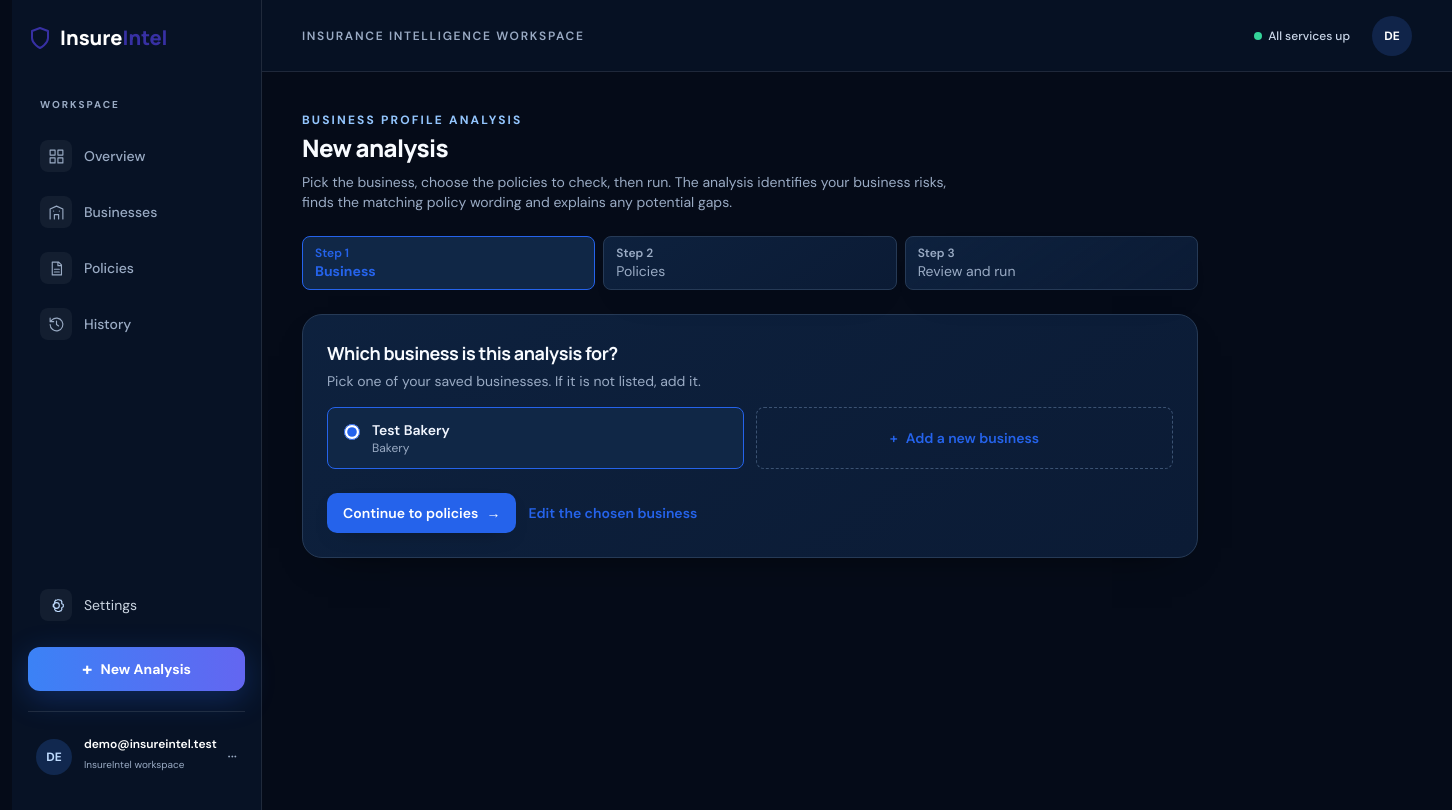
Test: new analysis: step 1, the business › adds a new business without leaving the flow
Check: the heading "New analysis" is shown, box [302,131,448,164]
Click the link "+ Add a new business" at (964, 438), box [756,407,1173,469]
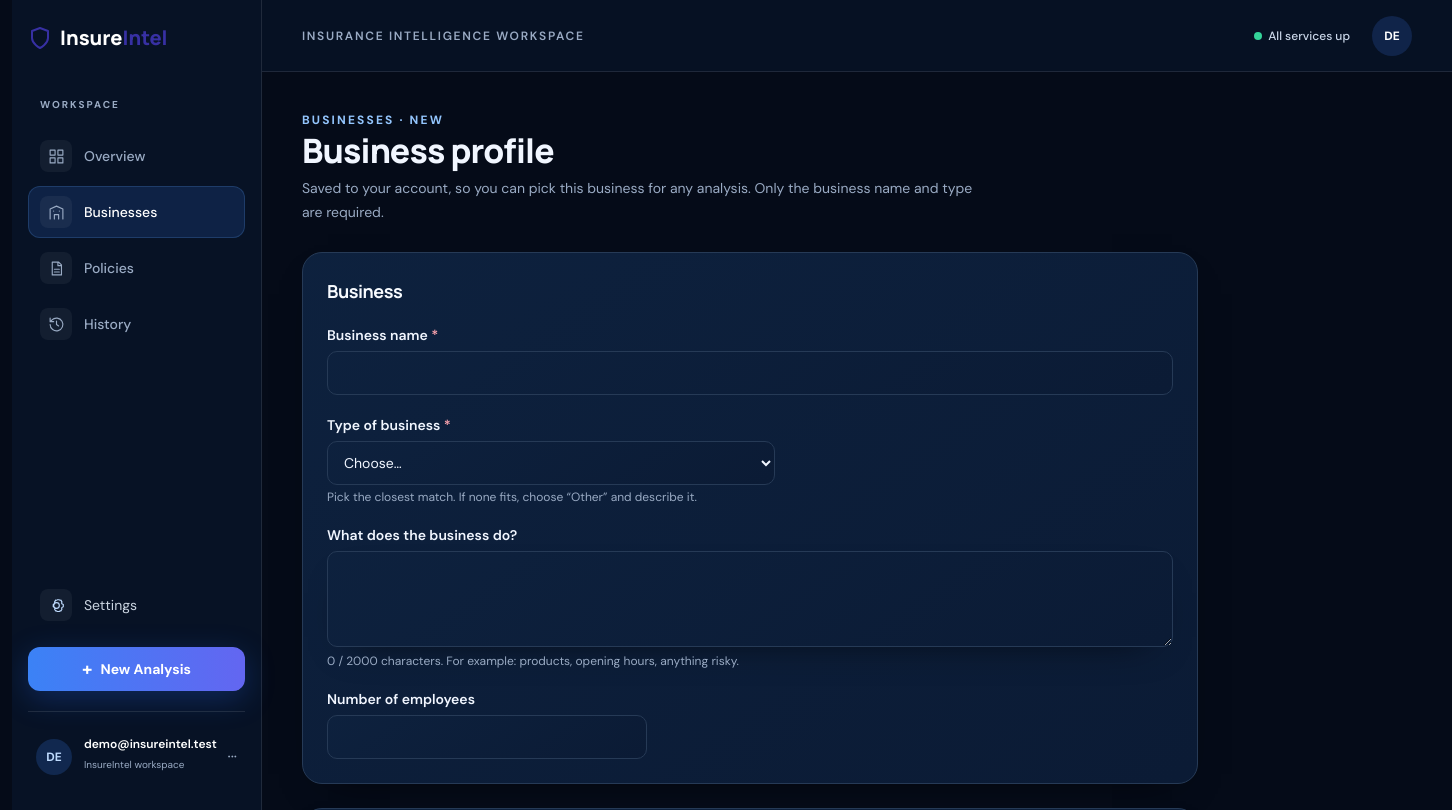
Check: the heading "Business profile" is shown, box [302,127,554,173]
Type "Corner Pharmacy" into the field labelled "Business name *" at (750, 373), box [327,351,1173,395]
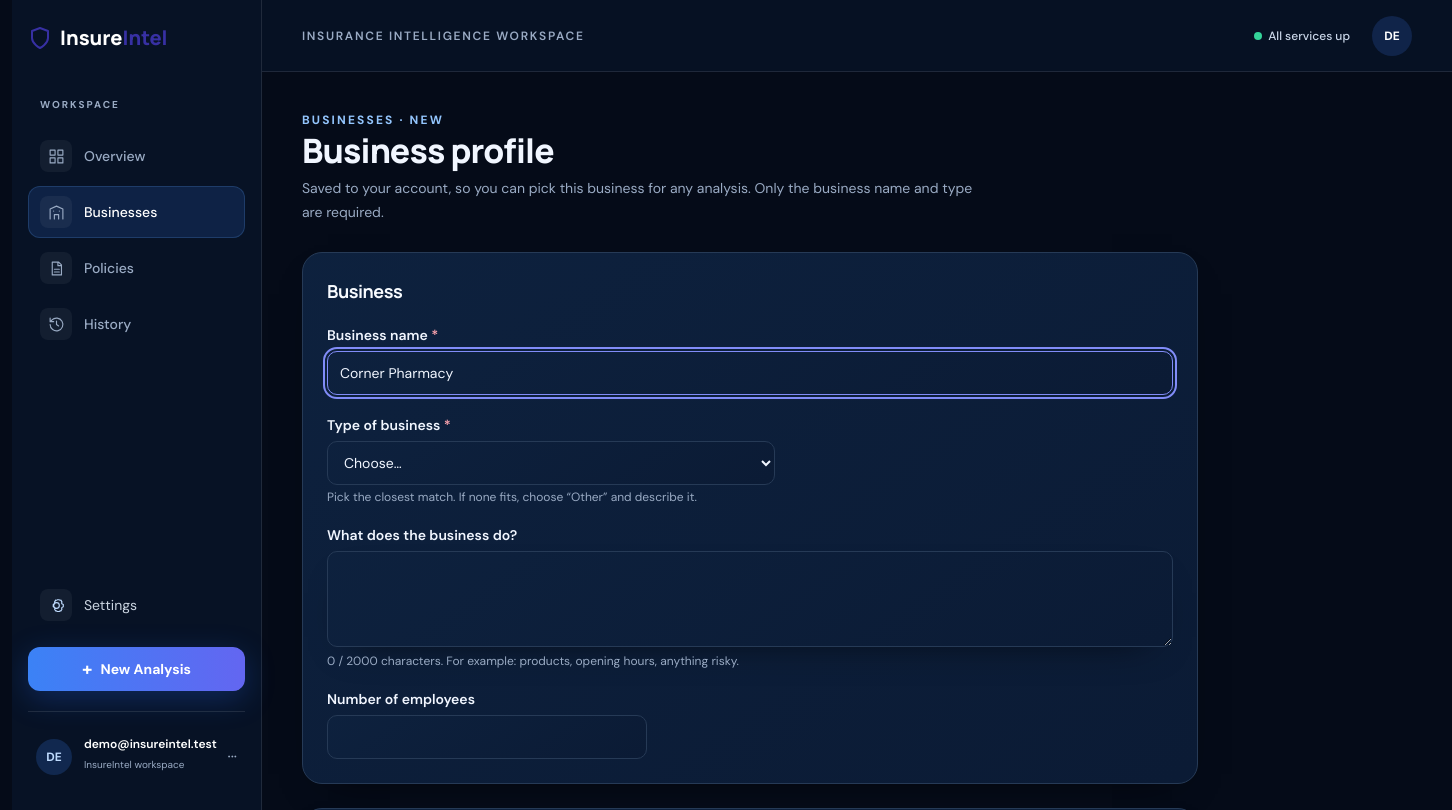
Select "Pharmacy" in the dropdown labelled "Type of business *" at (551, 463), box [327,441,775,485]
(page scrolled)
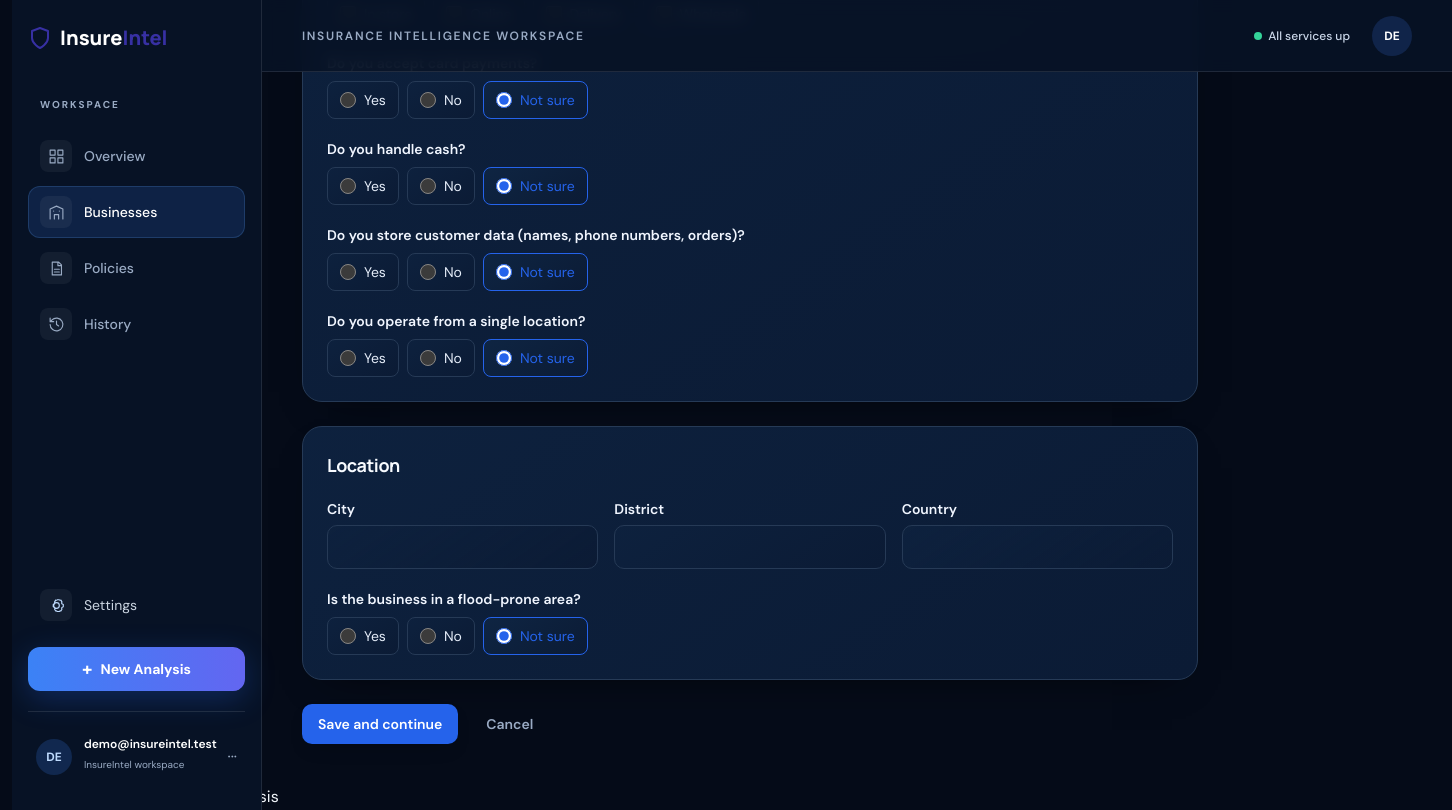
Click the button "Save and continue" at (380, 724), box [302,704,458,744]
(page scrolled)
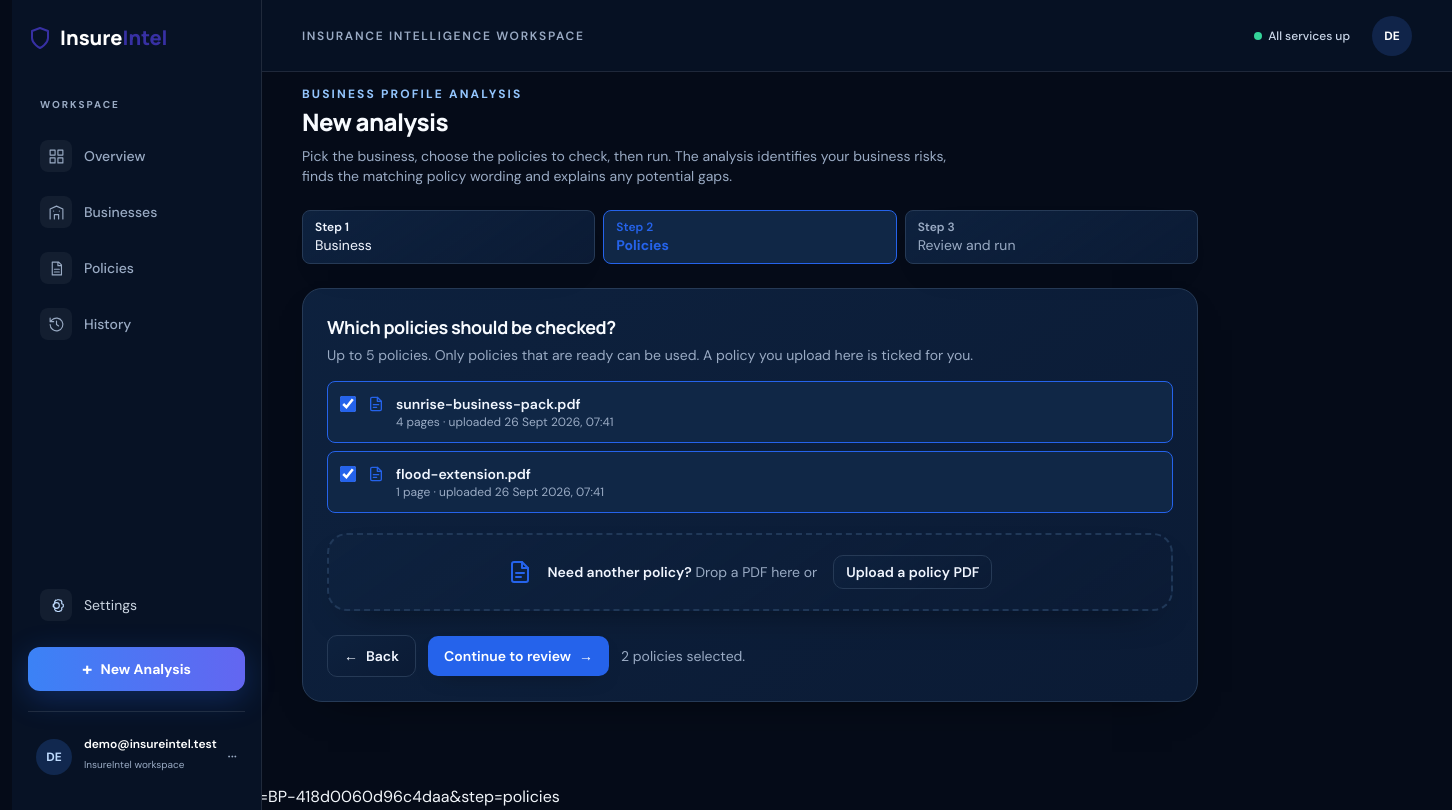
Check: the heading "Which policies should be checked?" is shown, box [327,315,616,339]
